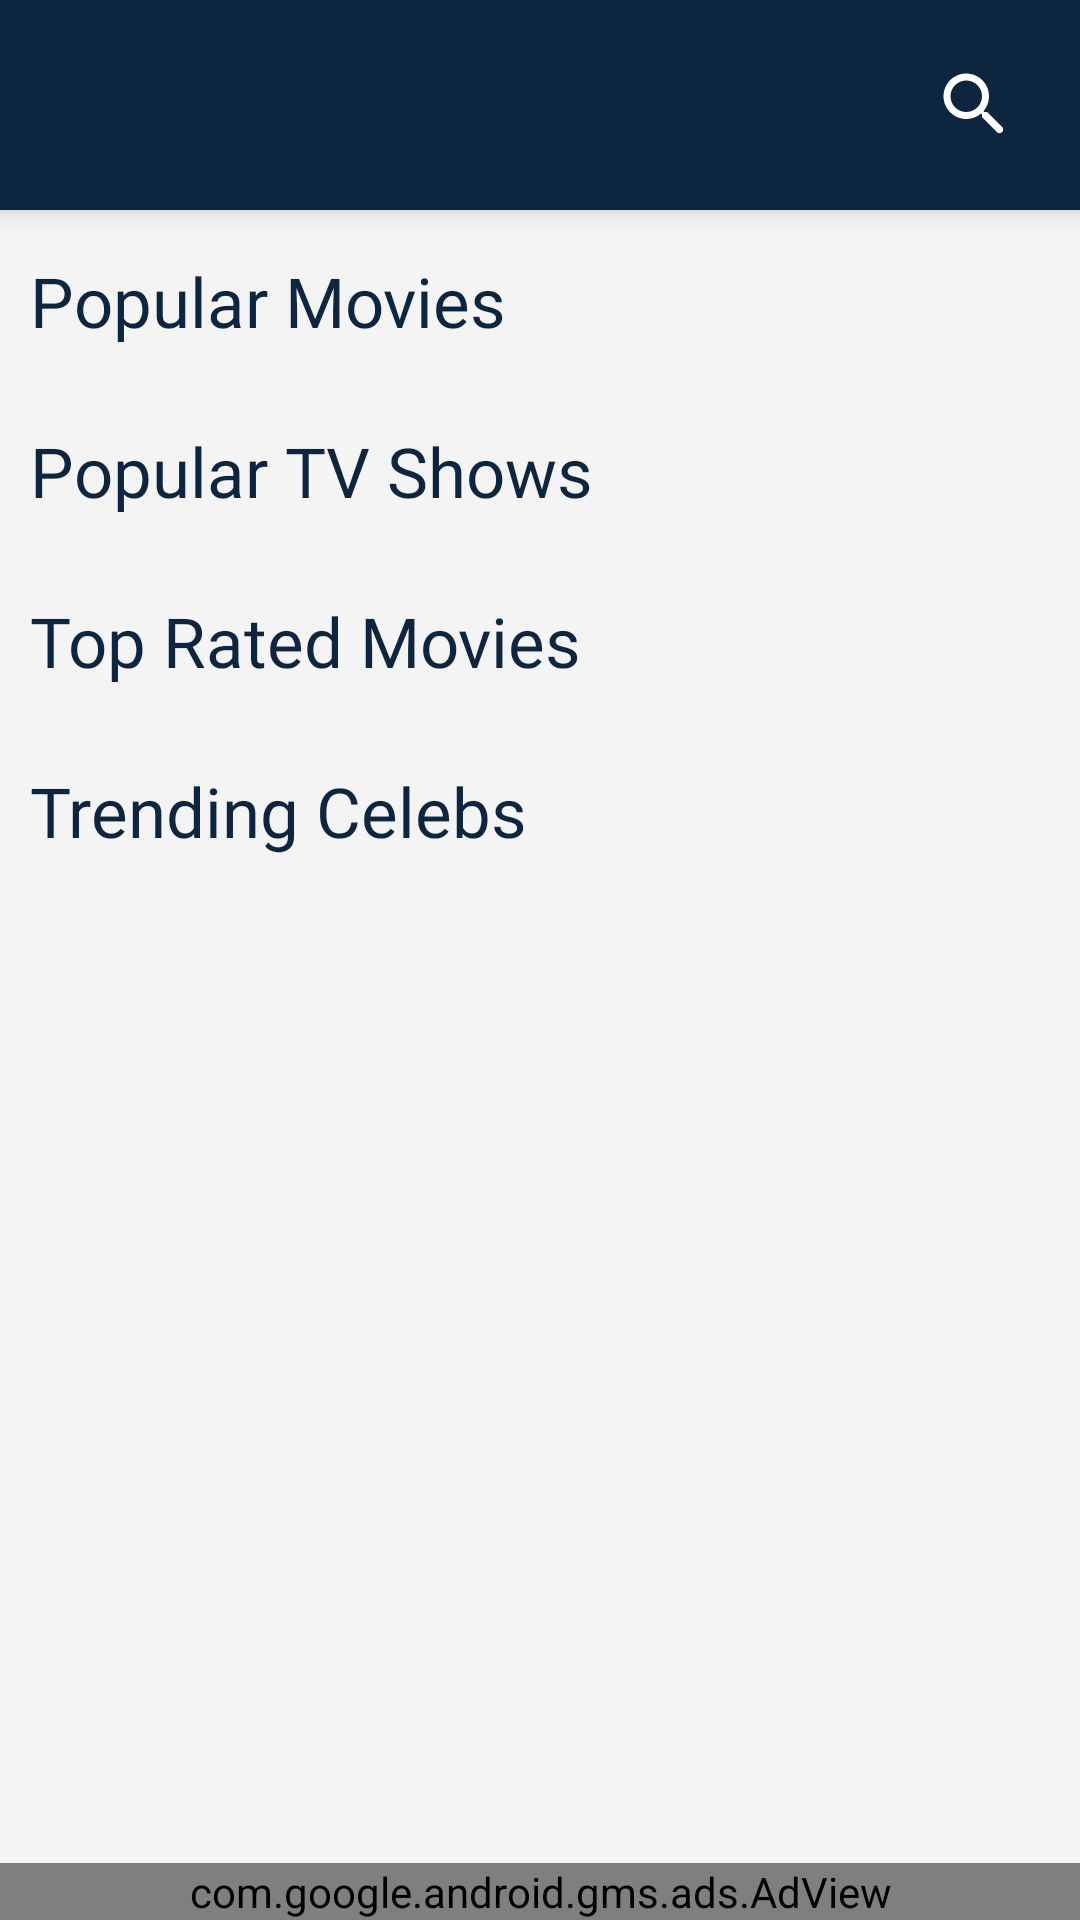

Locate icon controls on the screen. Image size 1080w x 1920h, boxes as (x1, y1, x2, y2).
Search Button: (943, 73, 1004, 134)
